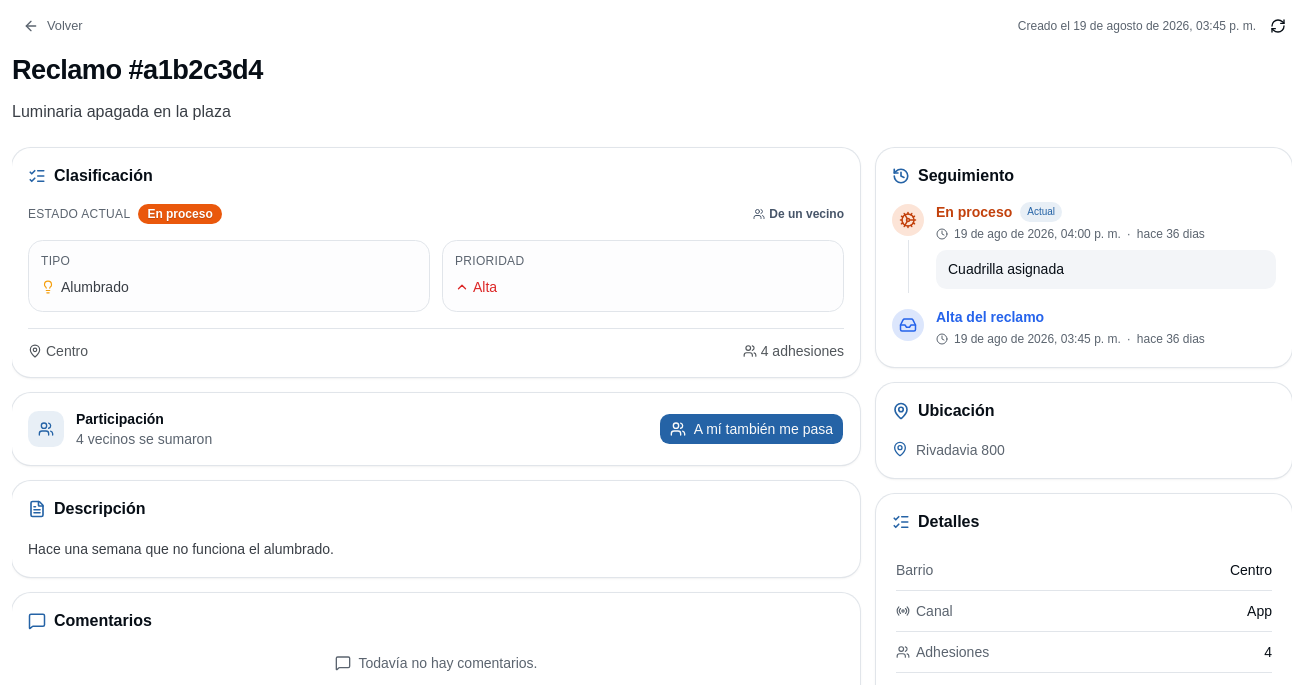
it: ReclamoDetallePage › registra una adhesion y actualiza el contador
expect the text "Luminaria apagada en la plaza" is shown: met, box [12,100,263,124]
What coordinates should you click on to do the following:
click the button "A mí también me pasa"
I would click on:
 (751, 429)
Its box is [659,413,844,445].
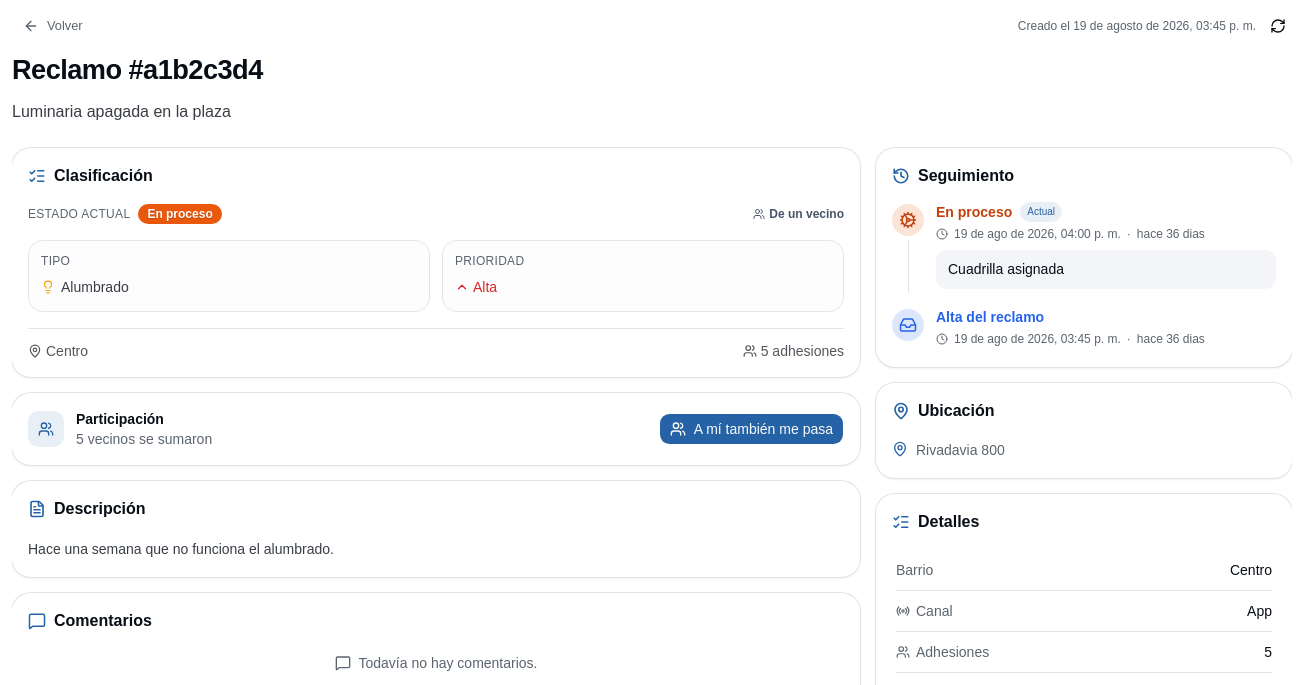
expect the text "5 vecinos se sumaron" is shown: met, box [76,429,212,449]
